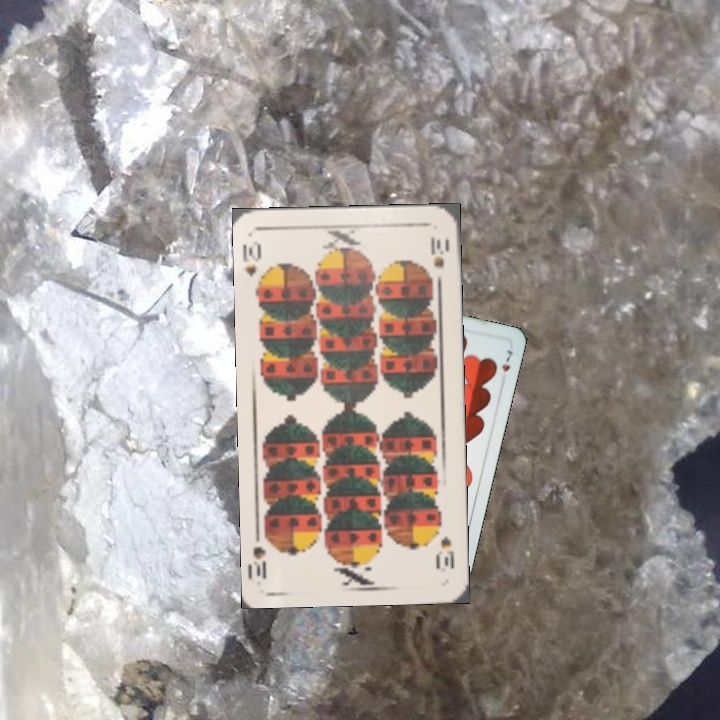S10: (239, 237, 267, 292), (433, 532, 457, 571)
